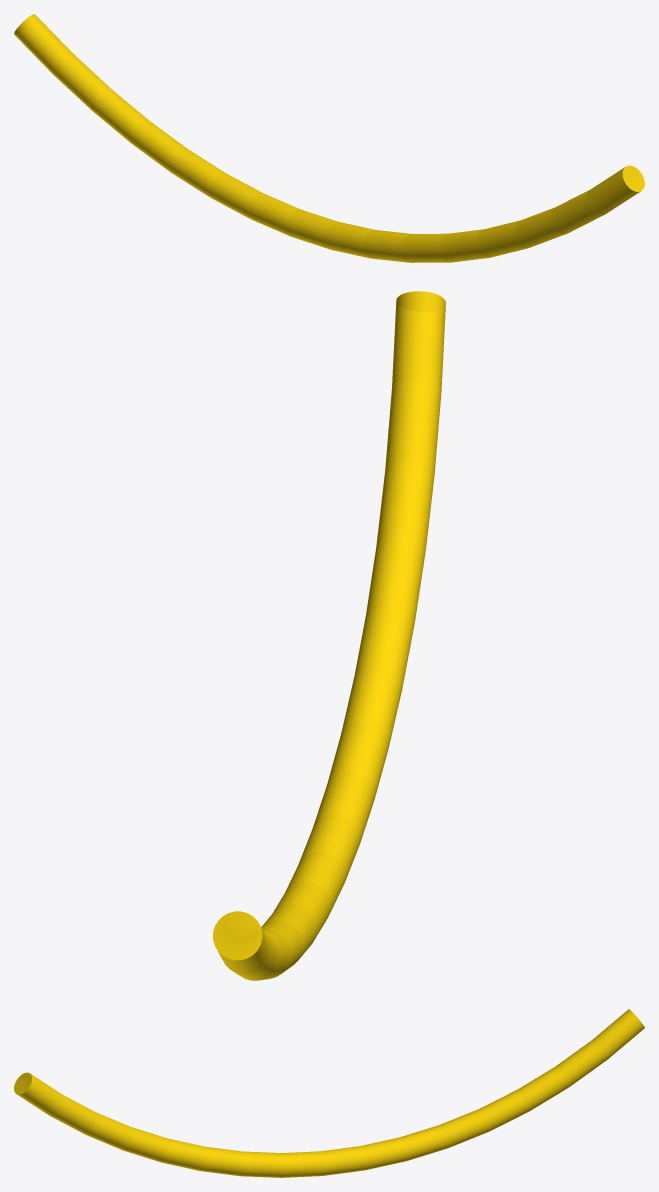
File: Event_421364160_track_55.fbx
3 views of the same model, one above another, from view 1: azimuth 30°, elevation 25°; view 2: azimuth 150°, elevation 25°; view 3: azimuth 270°, elevation 25° (orthographic). The views are drawn at different scales.
Parts seen in each view (by area): view 1: Model; view 2: Model; view 3: Model.
Boxes of the visible parts, <box> form: Model: <box>14,14,644,262</box>; Model: <box>213,291,445,980</box>; Model: <box>14,1009,644,1177</box>.
Size of the model in its own units: 0.4364 by 0.2709 by 1.01.
